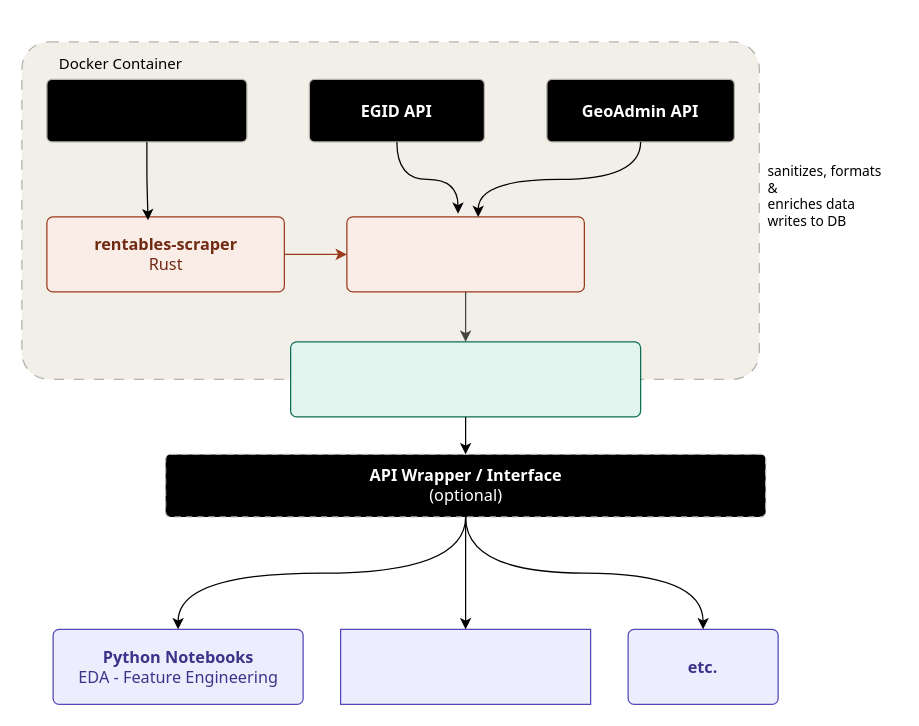
Image size: 919x726. Some labels were removed from this diagram. Here are the shapes that lost their labels. From the top down, the box of each, then its label:
(46, 78, 247, 142): Comparis "API"
(346, 216, 584, 292): rentables-enricher Rust
(289, 341, 641, 417): SQL DB neon.com (PostgreSQL serverless)
(339, 628, 591, 704): linreg ML-Modell - Training
